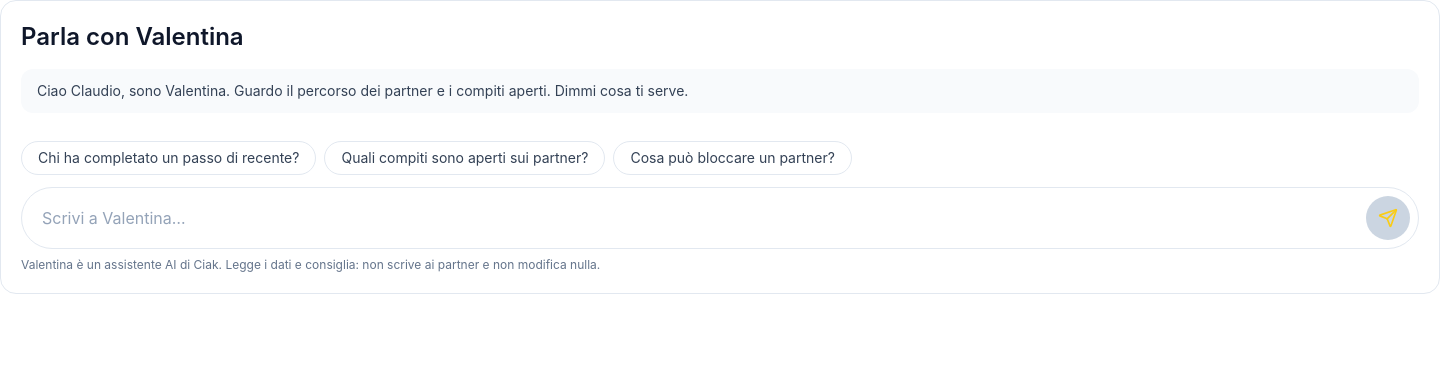
Test: valentina: saluta, chiama il suo percorso e mostra la risposta
This screenshot has width=1440, height=373.
Check: the text "sono Valentina" is shown, box top-left (37, 82), bottom-right (688, 99)
Type "A che punto siamo?" into the field labelled "Scrivi a Valentina" at (698, 218), box top-left (42, 206), bottom-right (1354, 230)
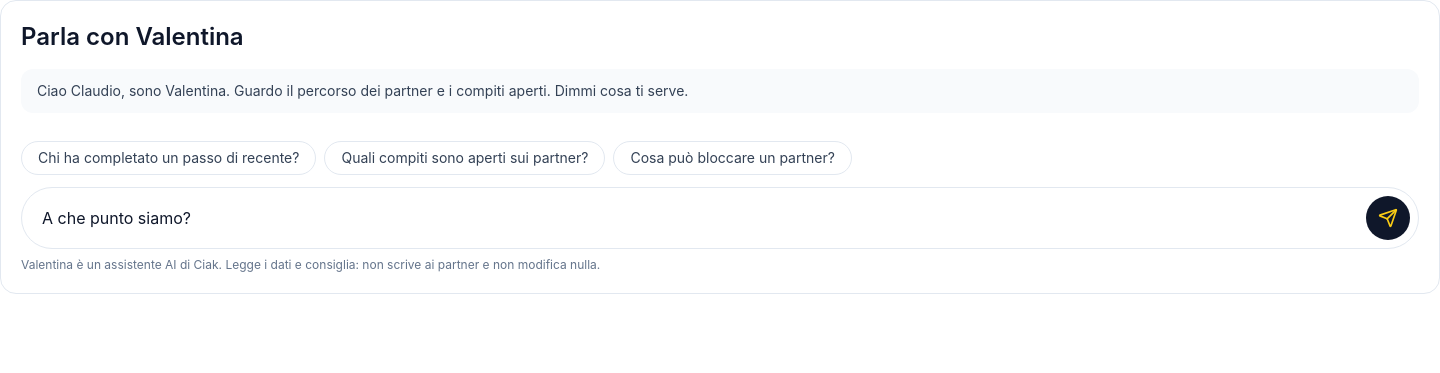
Click the button named "Invia a Valentina" at (1388, 218), box top-left (1366, 196), bottom-right (1410, 240)
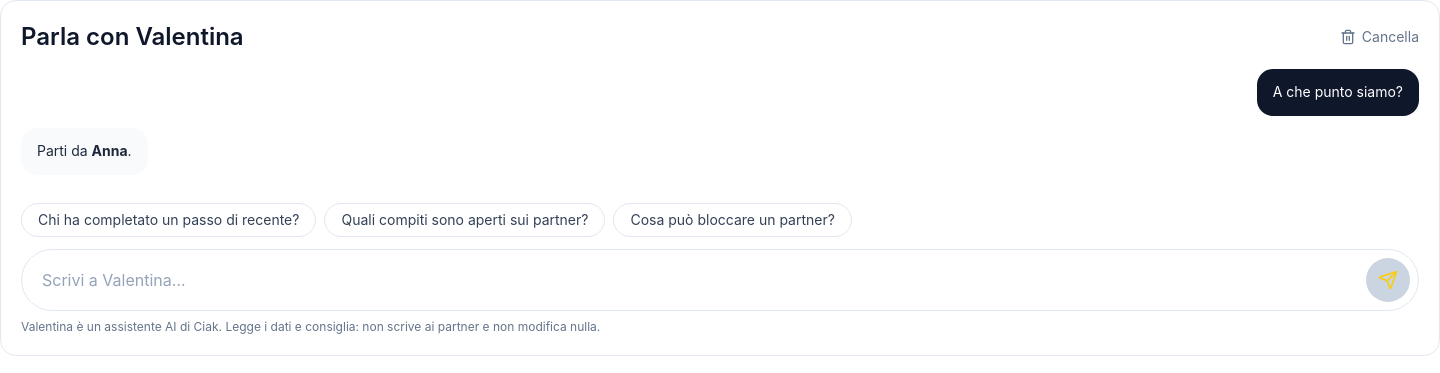
Check: the text "Anna" is shown, box top-left (92, 142), bottom-right (128, 159)
